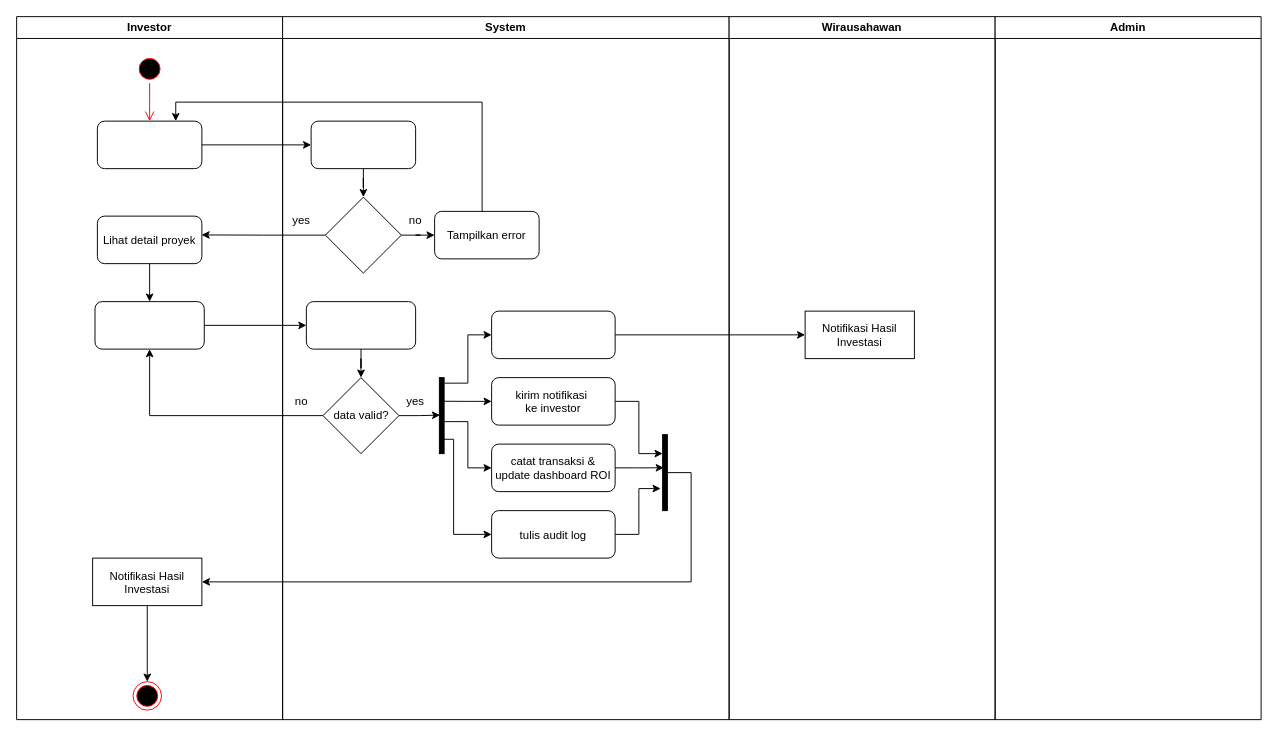
Image size: 1278x736. Some labels were removed from this diagram. The centre of each missing label's shape, as x and y in pixels:
"kirim notifikasi ke wirausahawan" goes at point 553,334.
"login valid?" goes at point 362,234.
"pilih proyek & melakukan investasi" goes at point 149,325.
"registrasi/Login" goes at point 149,144.
"validasi data investasi" goes at point 360,325.
"validasi login/registrasi" goes at point 363,144.
